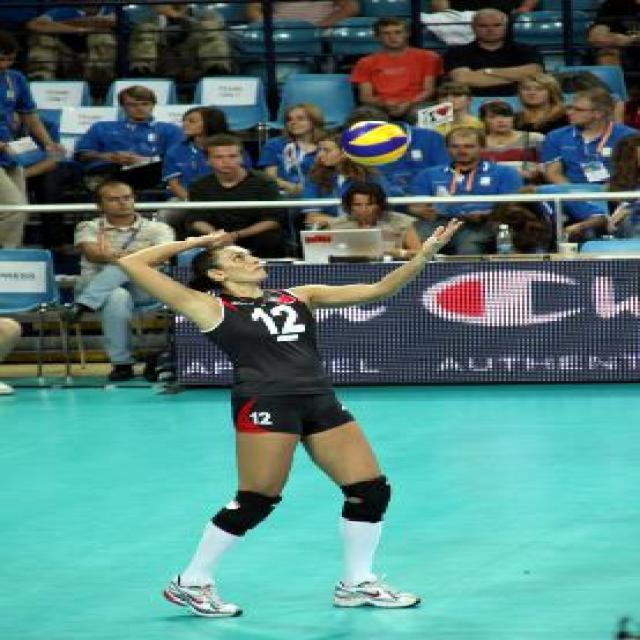volleyball: (342, 119, 409, 165)
